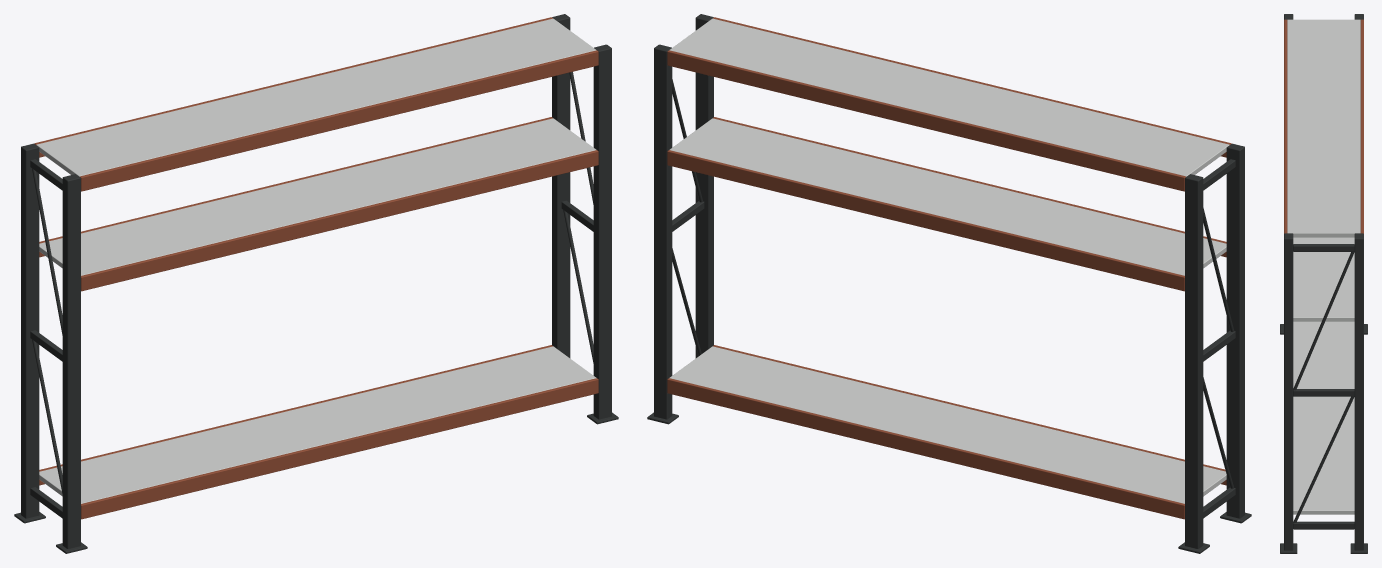
Rendered from two_sided_tote_shelving_body.glb.
3 renders of one model, left to right at view 1: azimuth 30°, elevation 25°; view 2: azimuth 150°, elevation 25°; view 3: azimuth 270°, elevation 25°, orthographic. The views are drawn at different scales.
Visible parts, largest first — view 1: two_sided_tote_shelving_body_steel, two_sided_tote_shelving_body_accent, two_sided_tote_shelving_body_graphite; view 2: two_sided_tote_shelving_body_steel, two_sided_tote_shelving_body_accent, two_sided_tote_shelving_body_graphite; view 3: two_sided_tote_shelving_body_steel, two_sided_tote_shelving_body_graphite, two_sided_tote_shelving_body_accent.
Part boxes in pixels (left/top/right/bottom): two_sided_tote_shelving_body_steel: left=36, top=18, right=596, bottom=503; two_sided_tote_shelving_body_accent: left=34, top=17, right=598, bottom=519; two_sided_tote_shelving_body_graphite: left=14, top=14, right=618, bottom=553; two_sided_tote_shelving_body_steel: left=669, top=18, right=1229, bottom=503; two_sided_tote_shelving_body_accent: left=667, top=17, right=1231, bottom=519; two_sided_tote_shelving_body_graphite: left=647, top=14, right=1251, bottom=553; two_sided_tote_shelving_body_steel: left=1287, top=19, right=1360, bottom=514; two_sided_tote_shelving_body_graphite: left=1280, top=14, right=1367, bottom=553; two_sided_tote_shelving_body_accent: left=1284, top=19, right=1363, bottom=233.
Bounding box in the file's own units: 2.03 × 1.3 × 0.33.
